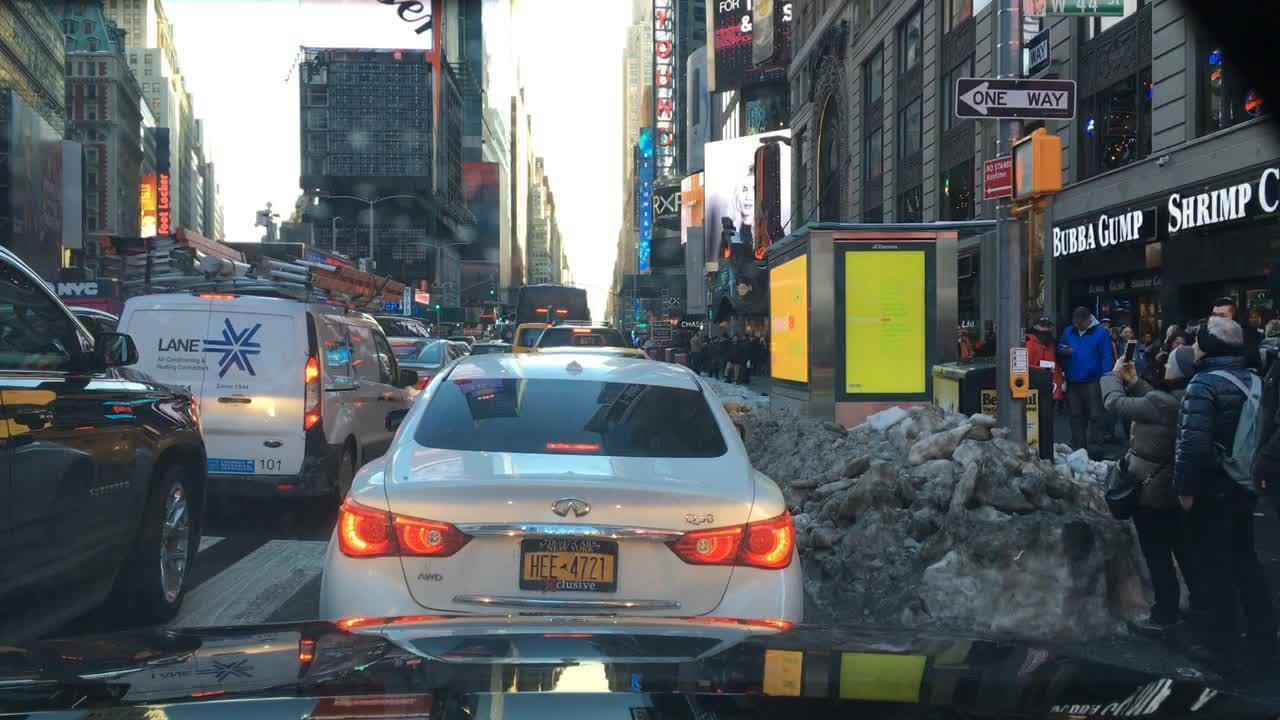Infiniti: (546, 492, 594, 519)
